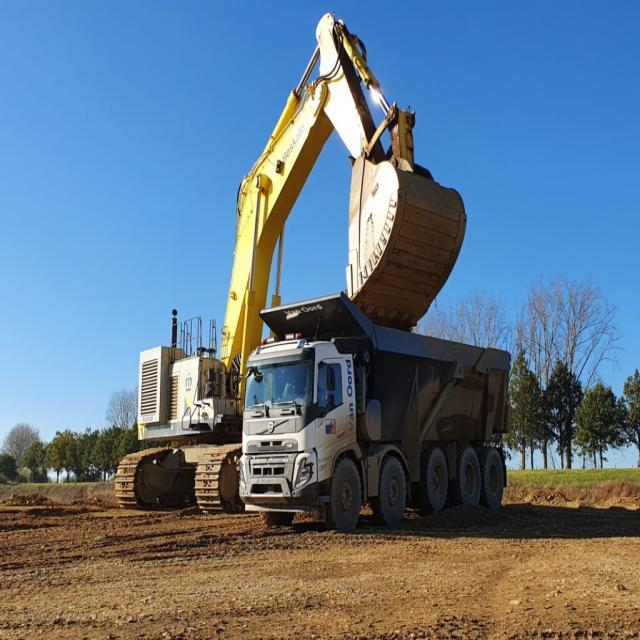dump_truck: (247, 291, 533, 536)
excavator: (107, 6, 464, 323)
